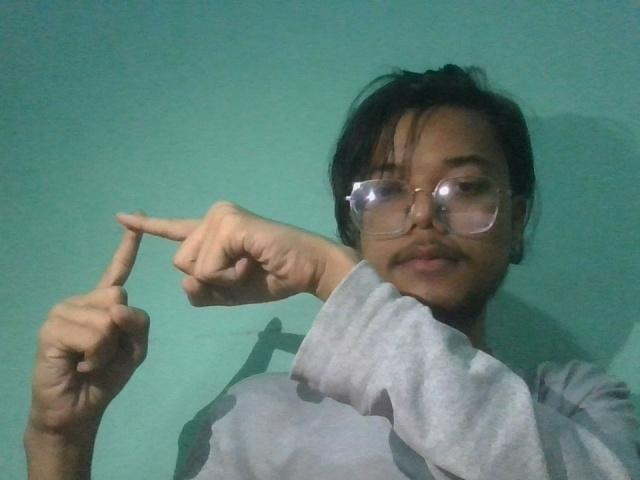When: (24, 191, 328, 457)
